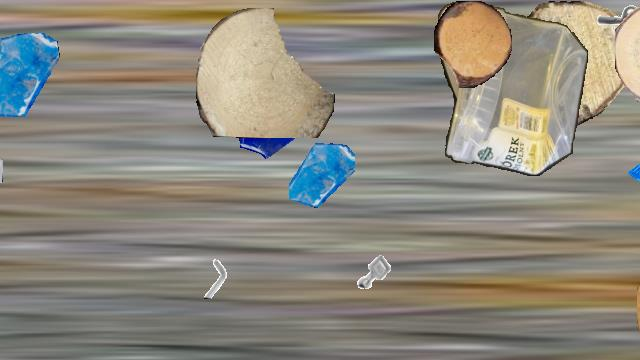glass: (228, 78, 310, 160), (0, 33, 62, 117), (289, 142, 355, 208), (628, 136, 640, 212), (0, 140, 2, 200)
metal: (582, 1, 640, 63), (349, 247, 399, 297), (194, 257, 236, 299)
plastic: (438, 1, 588, 175)
wood: (196, 8, 334, 138), (492, 1, 632, 127), (434, 1, 512, 87), (615, 1, 640, 103), (637, 261, 640, 359)
